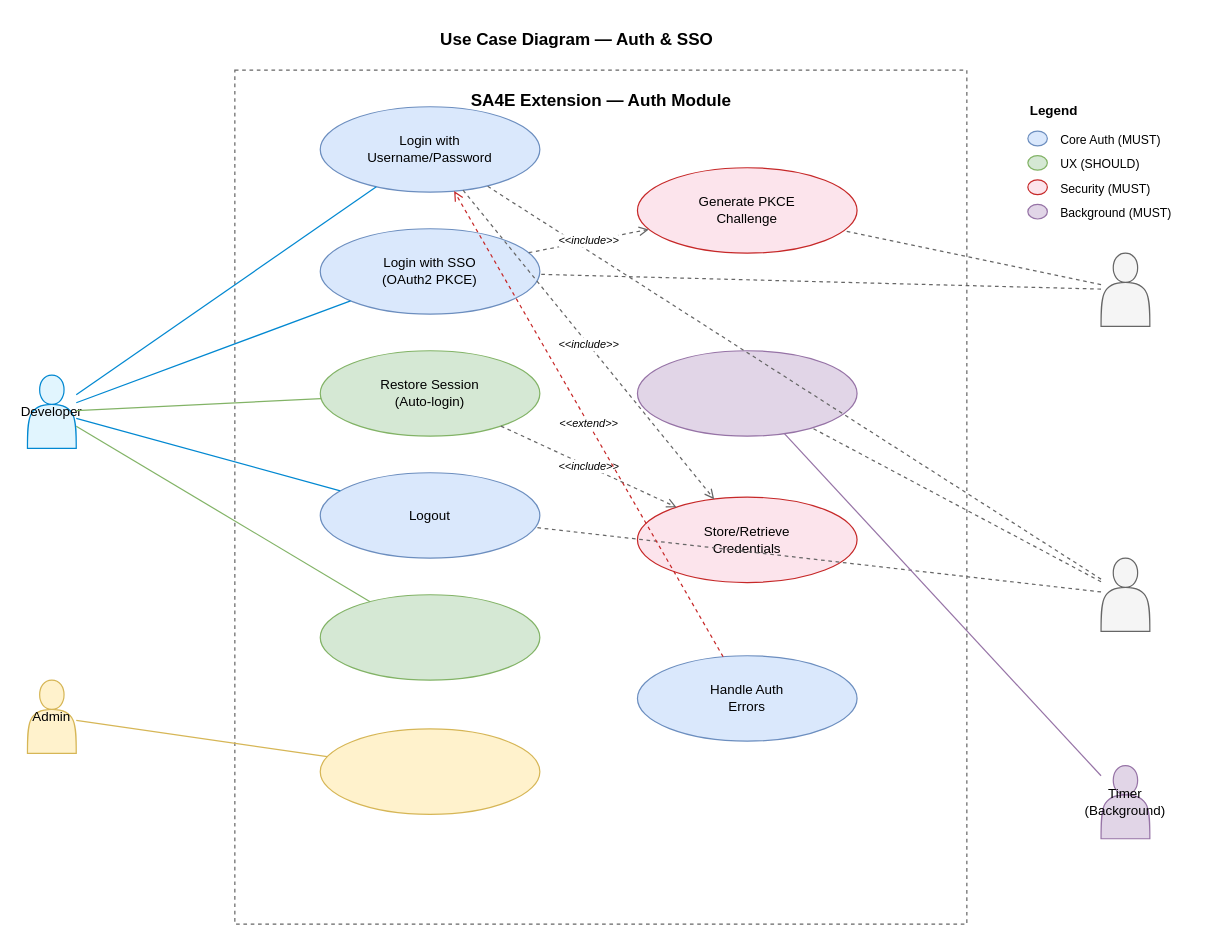
The diagram is 1225 pixels wide and 946 high, and some of its shapes have lost their labels. Each missing label, with the centre of its shape:
"Configure SSO Providers" belongs at point (429, 771).
"Refresh Token (Background)" belongs at point (746, 393).
"SA4E Backend (External)" belongs at point (1125, 594).
"SSO Provider (External)" belongs at point (1125, 289).
"View Auth Status" belongs at point (429, 637).
